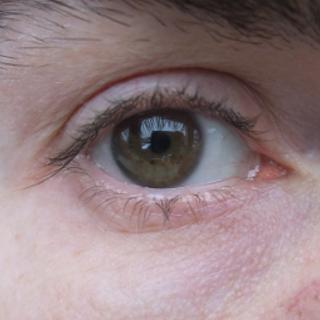pupil: (147, 130, 170, 153)
